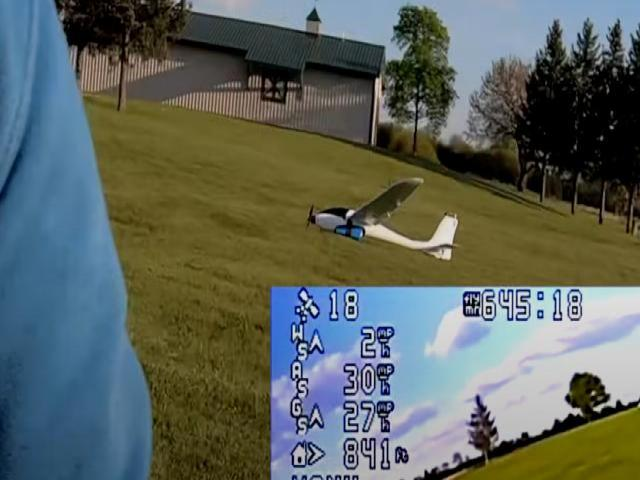iha: (303, 175, 461, 261)
